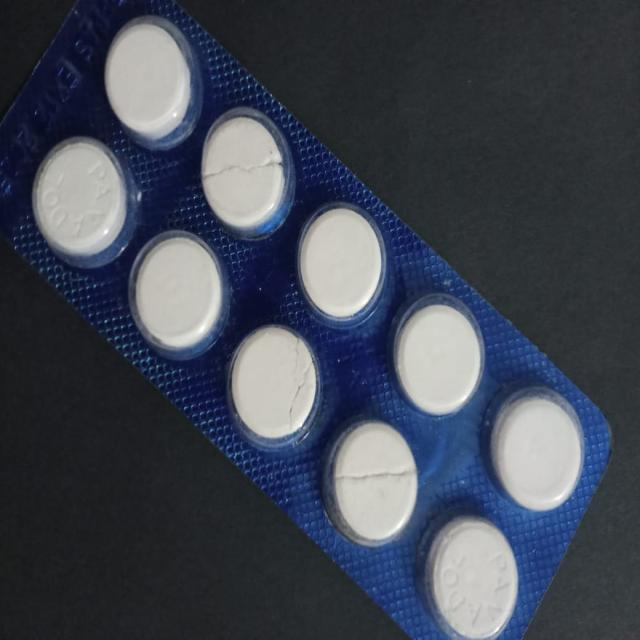defect: (197, 105, 295, 237), (226, 322, 323, 452), (327, 420, 420, 548)
